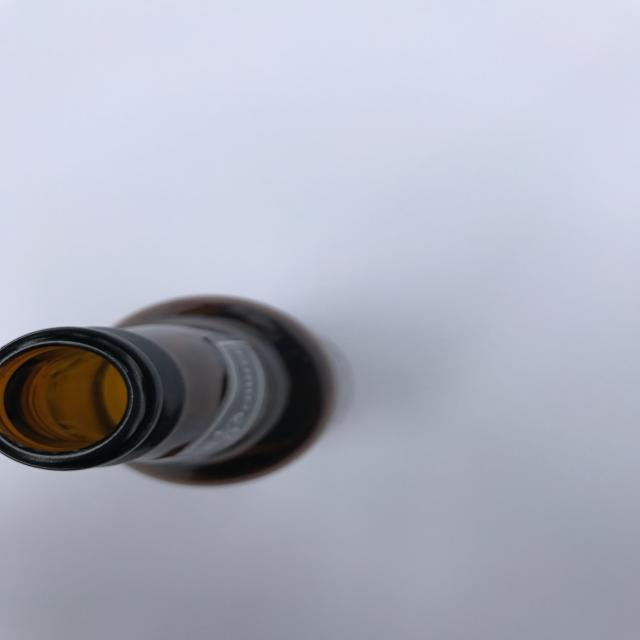Glass: (0, 283, 384, 527)
